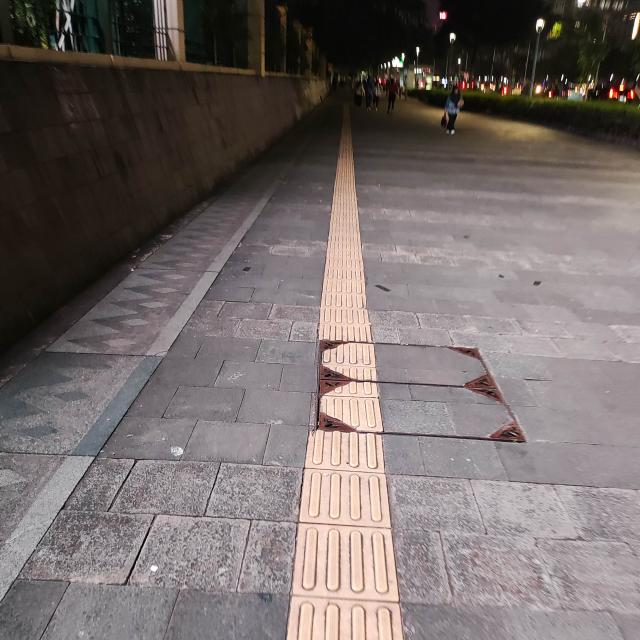lurus: (297, 142, 391, 640)
